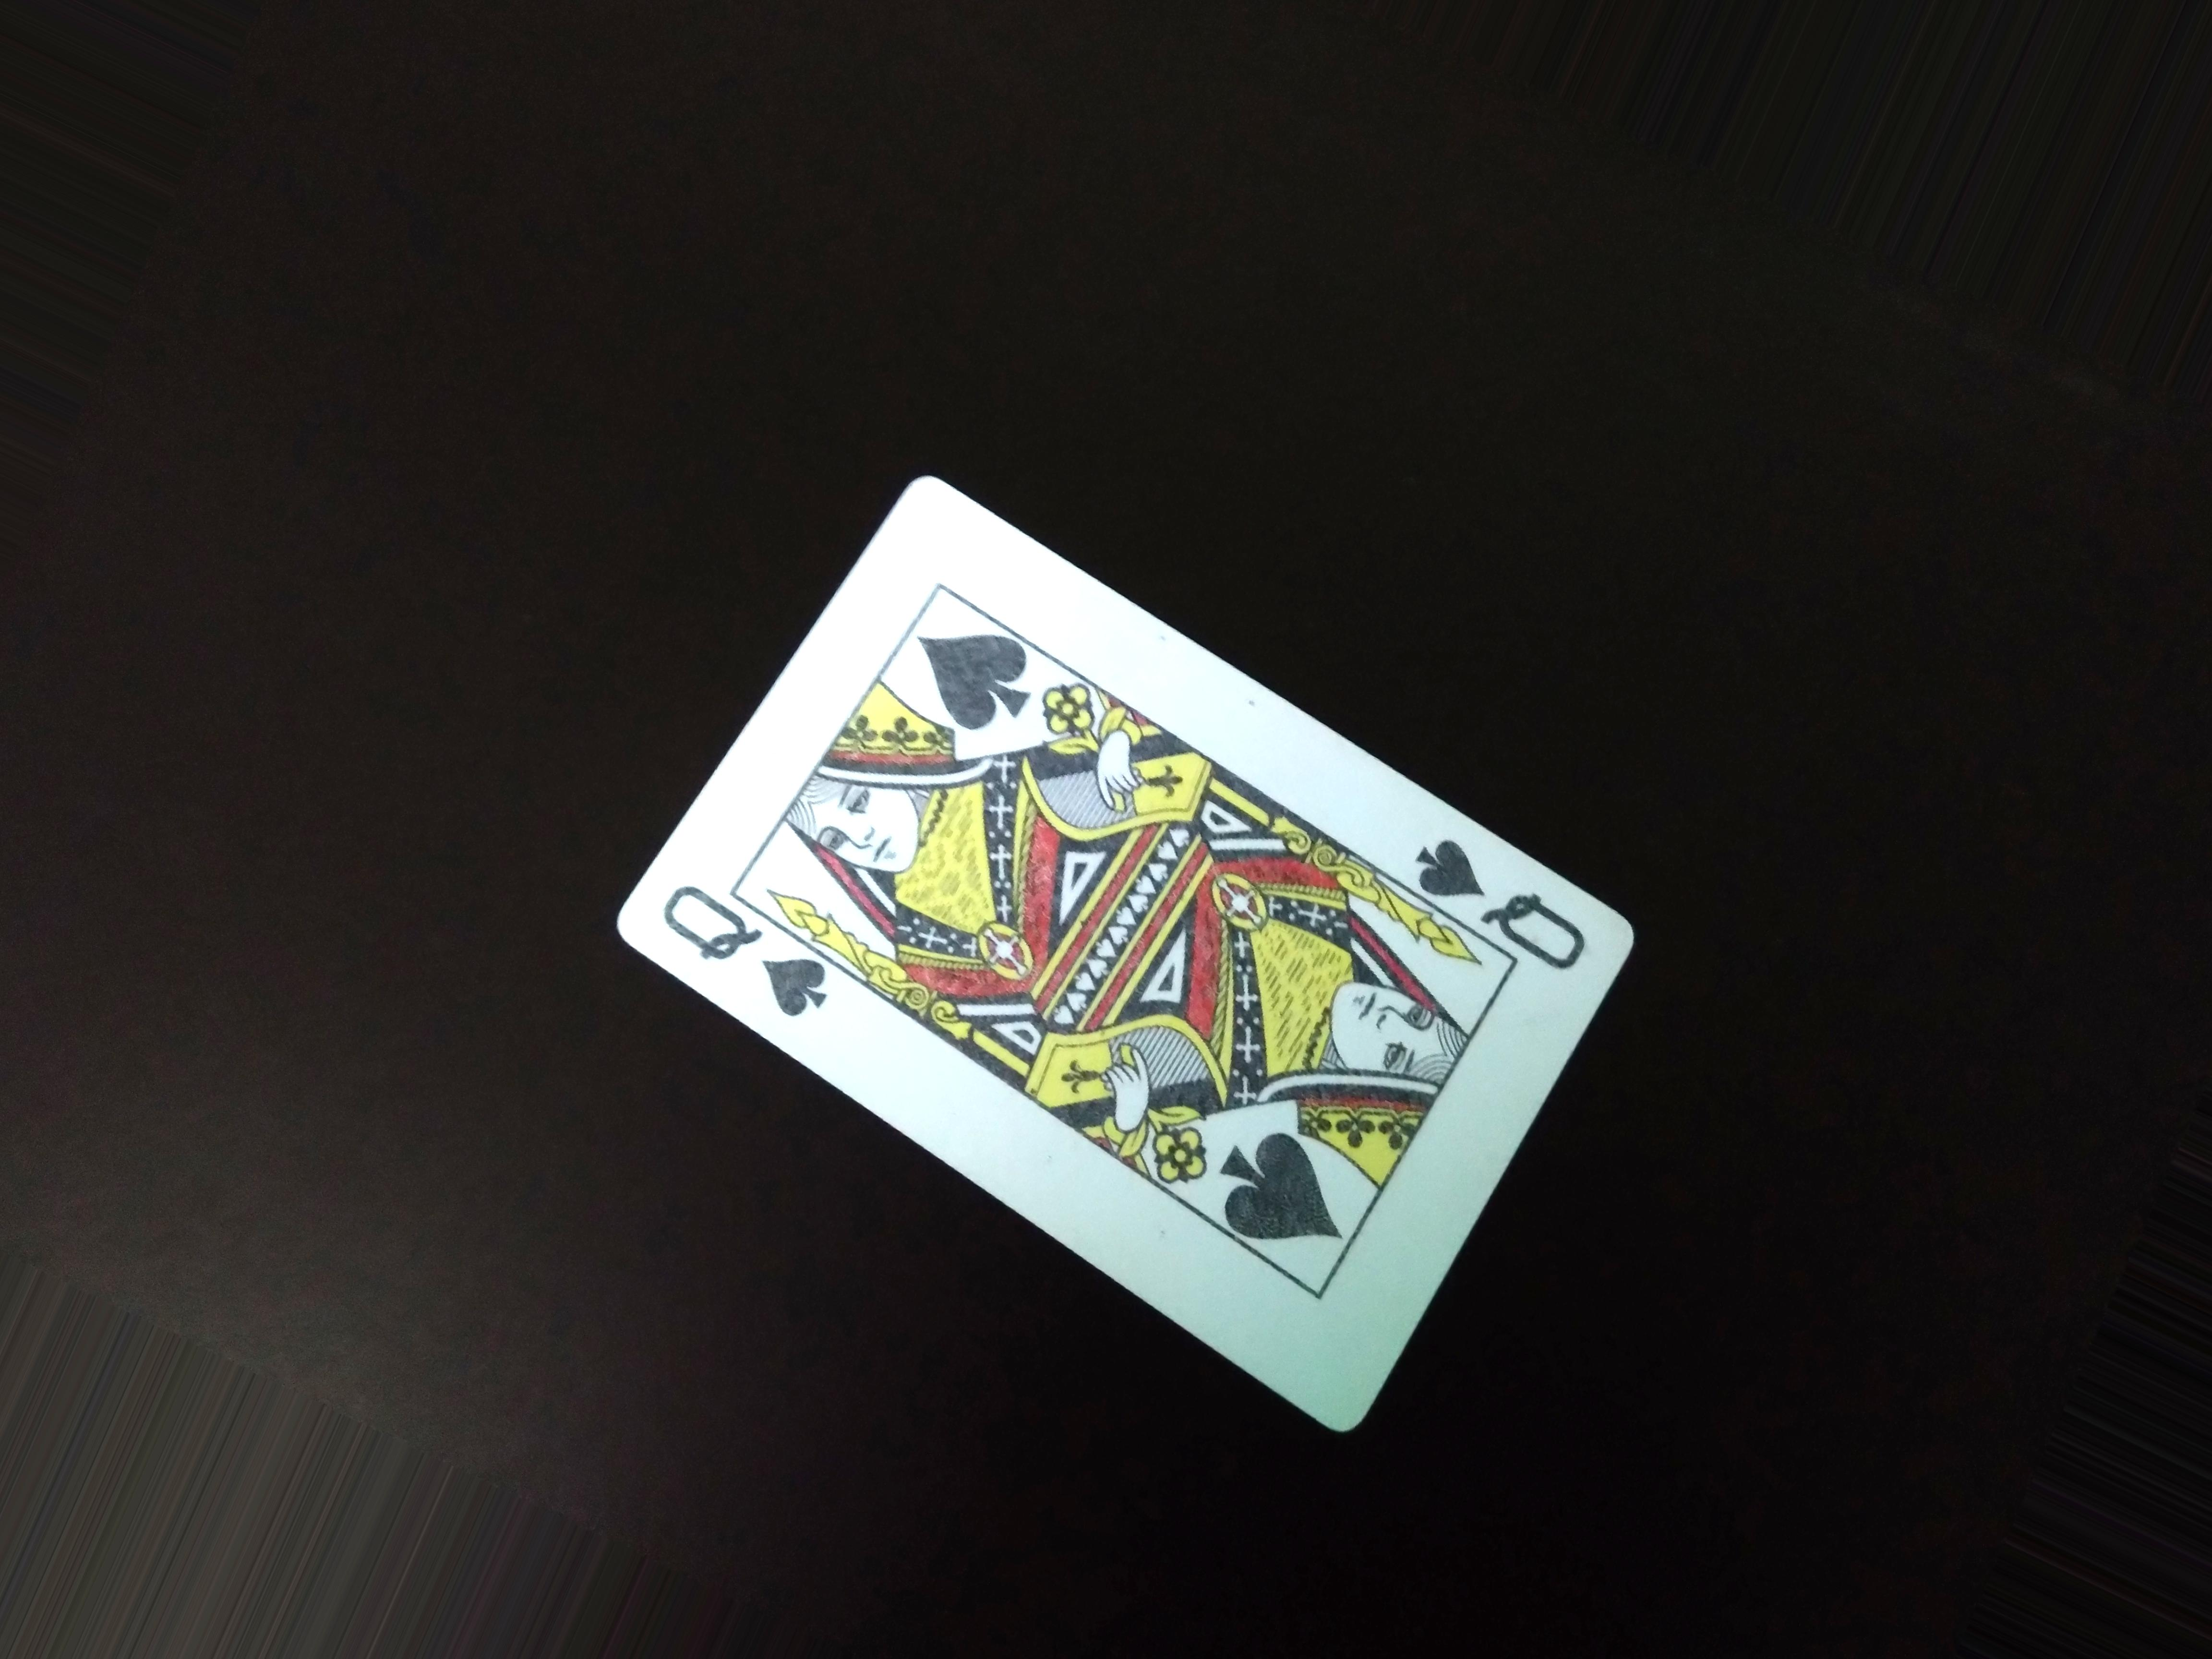QS: (665, 859, 852, 1021)
